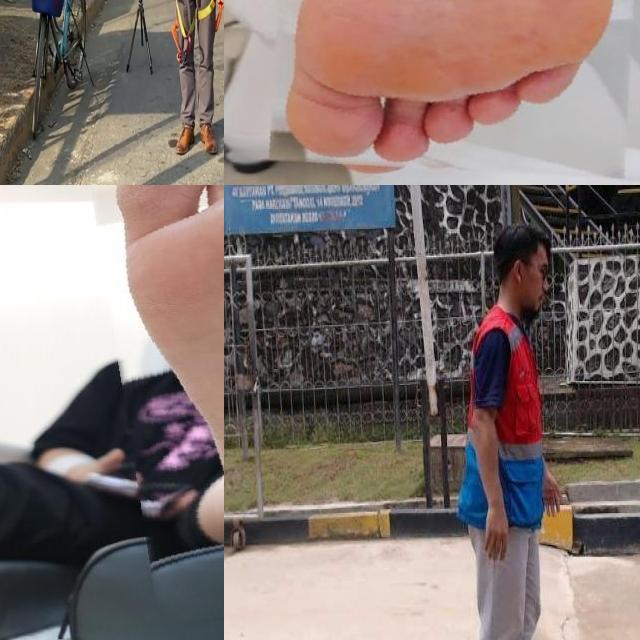Barefoots: (276, 0, 605, 167), (100, 185, 224, 616)
No_Ear-Protection: (507, 255, 531, 288)
person: (419, 217, 607, 640)
vest: (448, 285, 561, 542)
